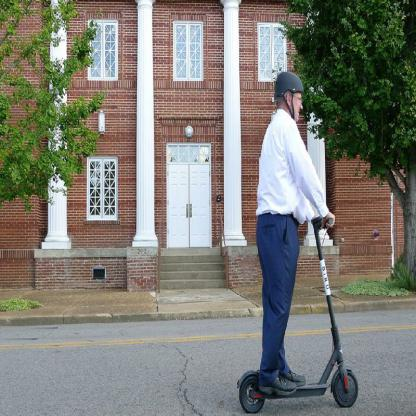scooter: (237, 215, 359, 415)
with helmet: (273, 71, 305, 126)
